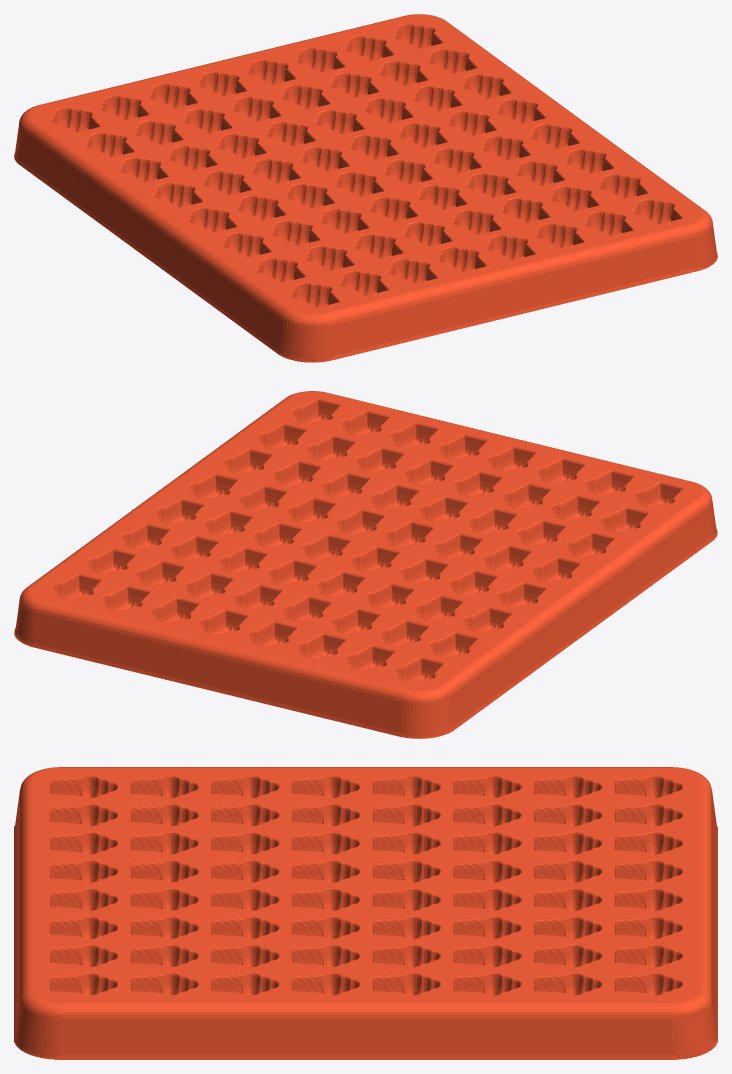
The model's file is mold.glb.
3 views of the same model, one above another, from view 1: azimuth 30°, elevation 25°; view 2: azimuth 150°, elevation 25°; view 3: azimuth 270°, elevation 25° (orthographic). The views are drawn at different scales.
Visible parts, largest first — view 1: geometry_0; view 2: geometry_0; view 3: geometry_0.
Boxes of the visible parts, box(x1,y1,x2,y2) form: geometry_0: box(14, 14, 717, 362); geometry_0: box(14, 391, 717, 738); geometry_0: box(14, 767, 717, 1059).
Size of the model in its own units: 0.1139 by 0.0105 by 0.1355.
